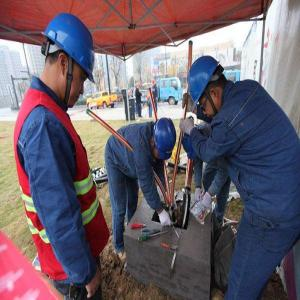blue: (40, 12, 98, 109), (186, 54, 227, 120), (150, 116, 178, 162)
